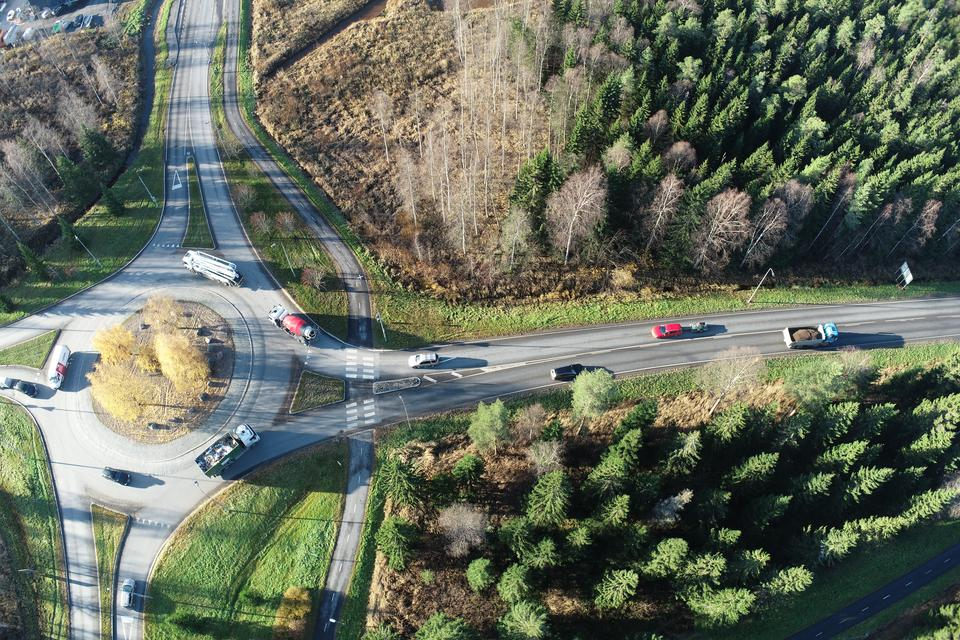intersection: (331, 304, 403, 473)
roundabout: (0, 197, 326, 528)
